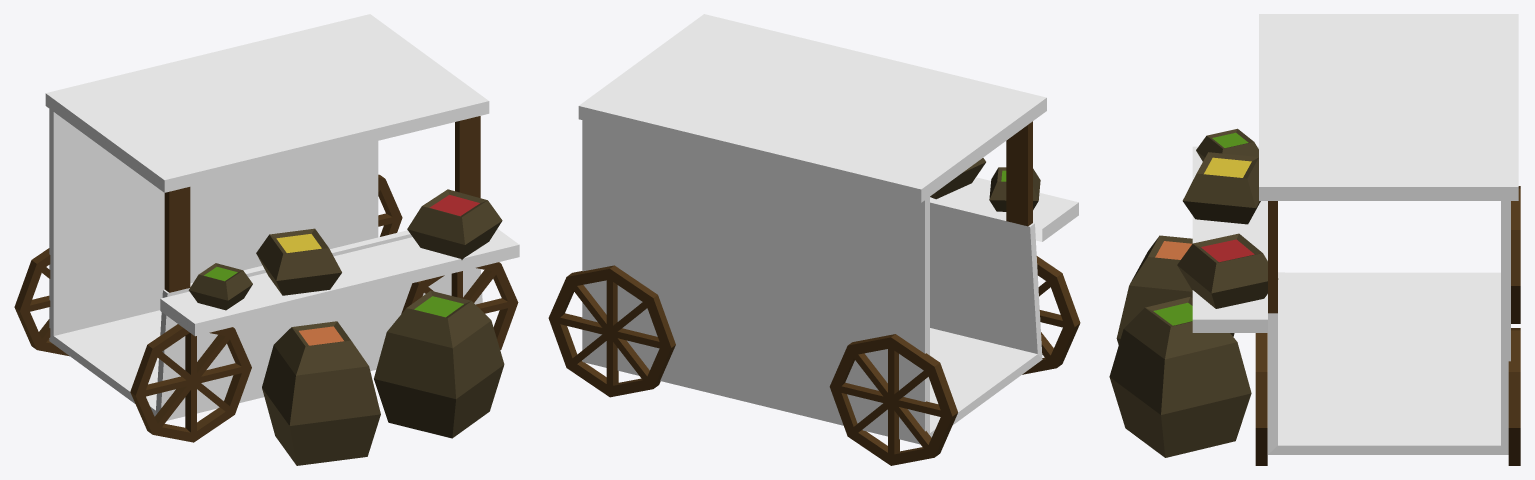
The model's file is TraderLot.fbx.
3 renders of one model, left to right at view 1: azimuth 30°, elevation 25°; view 2: azimuth 150°, elevation 25°; view 3: azimuth 270°, elevation 25°, orthographic. The views are drawn at different scales.
Parts seen in each view (by area): view 1: TradeLot, Bag_01, Bag_02; view 2: TradeLot; view 3: TradeLot, Bag_01, Bag_02.
Part boxes in pixels (box(x1,y1,x2,y2)): TradeLot: box(14, 14, 519, 442); Bag_01: box(374, 290, 504, 438); Bag_02: box(262, 321, 380, 465); TradeLot: box(548, 14, 1080, 465); TradeLot: box(1177, 14, 1520, 465); Bag_01: box(1109, 296, 1251, 457); Bag_02: box(1116, 235, 1234, 344).
Size of the model in its own units: 3.97 by 2.67 by 3.38.
